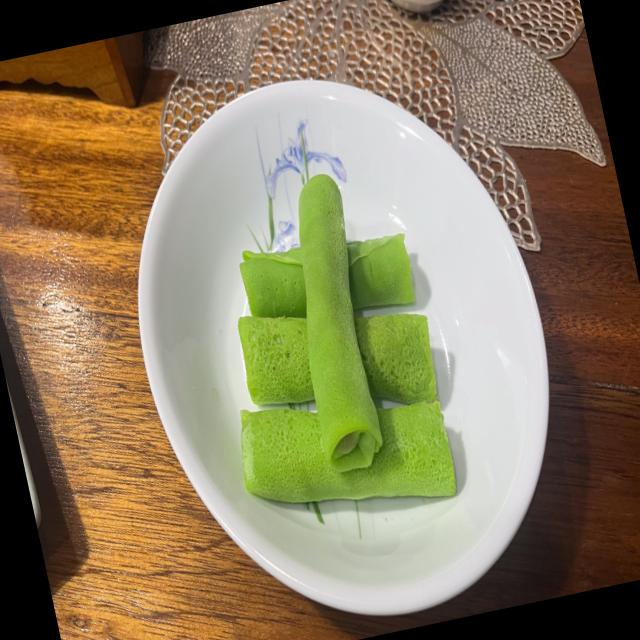Kuih-Ketayap: (298, 173, 382, 472), (240, 401, 456, 503), (354, 312, 437, 404), (238, 315, 314, 406), (347, 233, 415, 309), (240, 248, 306, 318)
